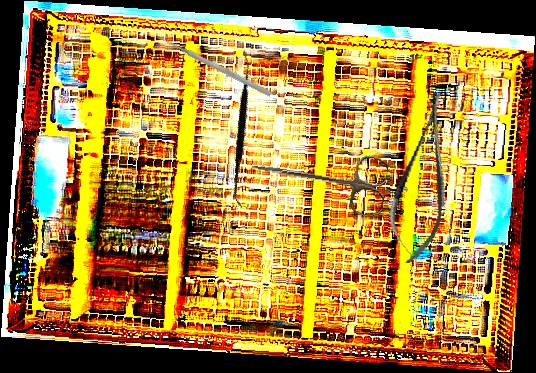Iris Scissors: (247, 139, 390, 219)
Micro Scissor: (380, 87, 467, 269)
Pusher: (154, 32, 273, 98)
Spatula Surgical: (176, 51, 310, 209)
